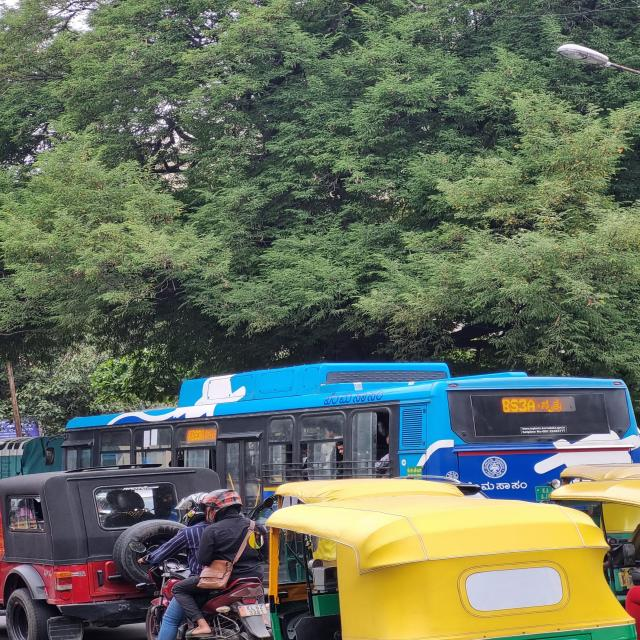bus: (28, 357, 640, 513)
display: (498, 395, 582, 414), (180, 426, 222, 444)
dnumber: (502, 398, 536, 412)
